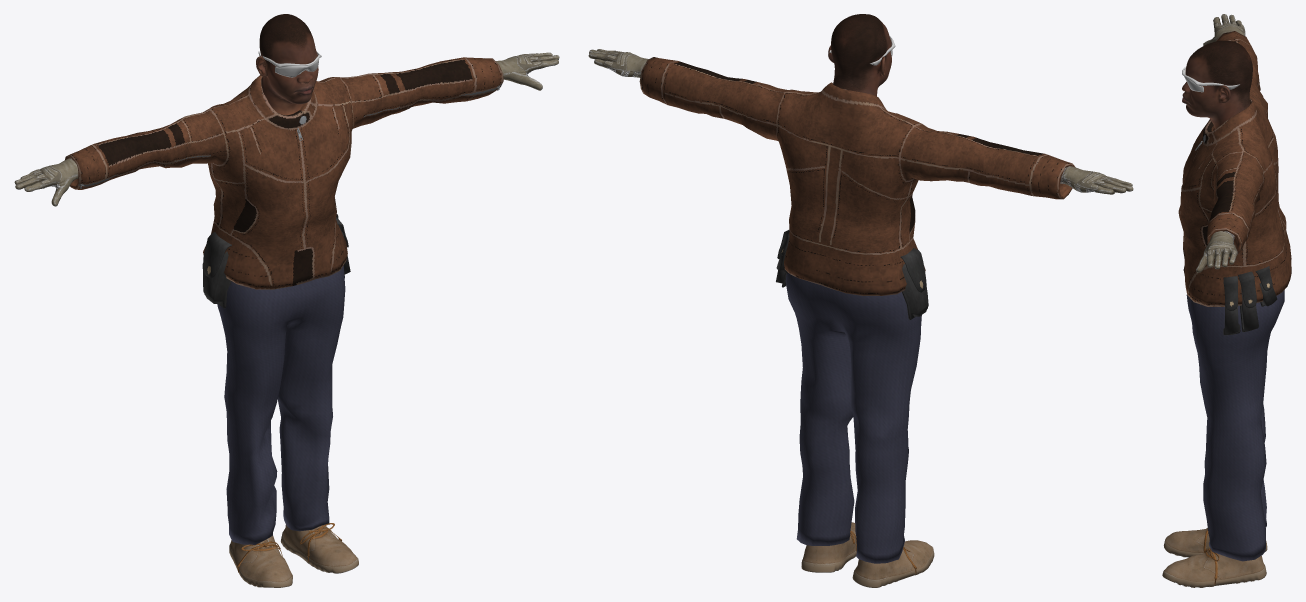
Rendered from Enemy_02.obj.
The picture shows the model from 3 angles, left to right: view 1: azimuth 30°, elevation 25°; view 2: azimuth 150°, elevation 25°; view 3: azimuth 270°, elevation 25°; orthographic projection. The views are drawn at different scales.
Parts seen in each view (by area): view 1: Tops, Bottoms, Shoes, Body, Gloves; view 2: Tops, Bottoms, Body, Shoes, Gloves; view 3: Bottoms, Tops, Body, Shoes, Gloves, Eyewear.
Part boxes in pixels (x1,y1,x2,y2): Tops: [65, 57, 503, 289]; Bottoms: [202, 214, 350, 544]; Shoes: [229, 523, 358, 587]; Body: [256, 14, 318, 115]; Gloves: [14, 52, 559, 206]; Tops: [639, 57, 1075, 295]; Bottoms: [776, 230, 928, 563]; Body: [828, 14, 891, 96]; Shoes: [801, 522, 934, 587]; Gloves: [588, 49, 1133, 194]; Bottoms: [1186, 266, 1284, 561]; Tops: [1178, 31, 1291, 306]; Body: [1182, 40, 1252, 238]; Shoes: [1162, 528, 1267, 587]; Gloves: [1196, 14, 1245, 272]; Eyewear: [1182, 67, 1239, 92].
Bounding box in the file's own units: 194 × 186 × 41.67.
